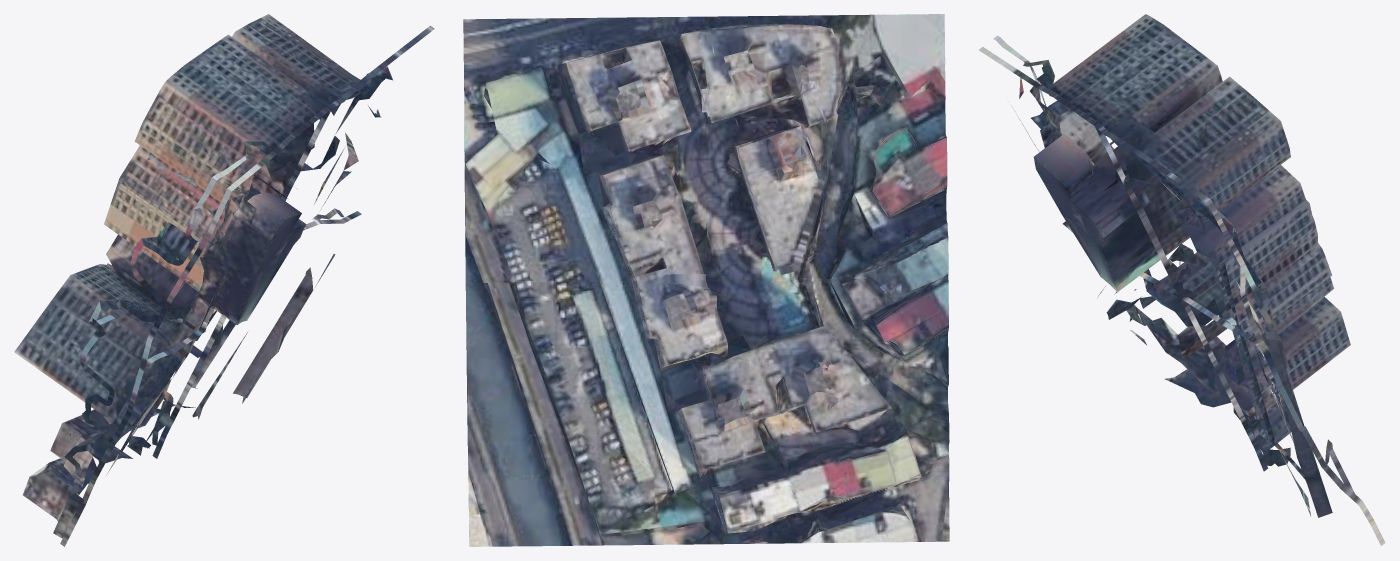
3 renders of one model, left to right at view 1: azimuth 30°, elevation 25°; view 2: azimuth 150°, elevation 25°; view 3: azimuth 270°, elevation 25°, orthographic. The views are drawn at different scales.
Bounding box in the file's own units: 152 × 157 × 131.
2 materials, 2 textured.
